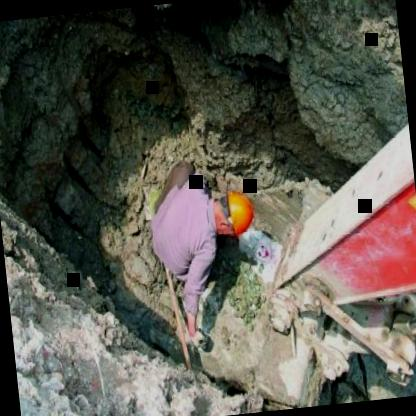helmet: (211, 186, 259, 244)
